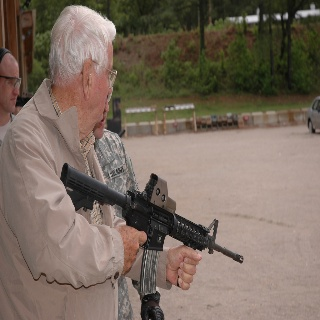rifle: (57, 161, 247, 296)
